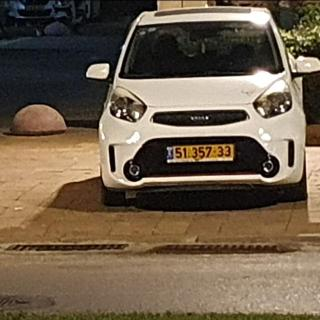LicensePlate: (173, 143, 233, 160)
